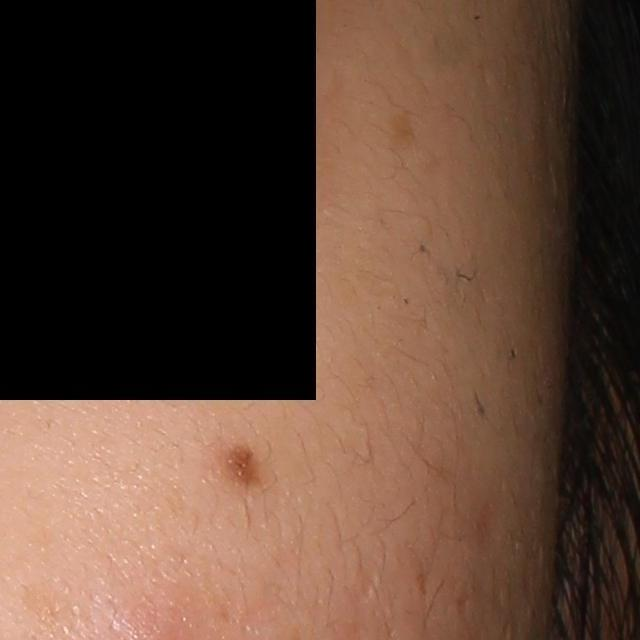melasma: (388, 100, 418, 158)
nevus: (225, 441, 262, 493)
